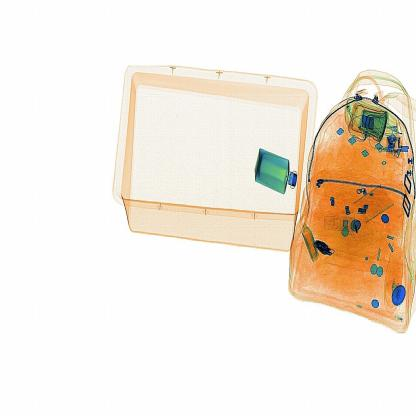scissors: (313, 234, 336, 261)
